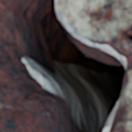broken_brick: (59, 0, 131, 131), (0, 34, 49, 131), (0, 0, 6, 28)
crack: (0, 0, 129, 131), (123, 31, 131, 41)
